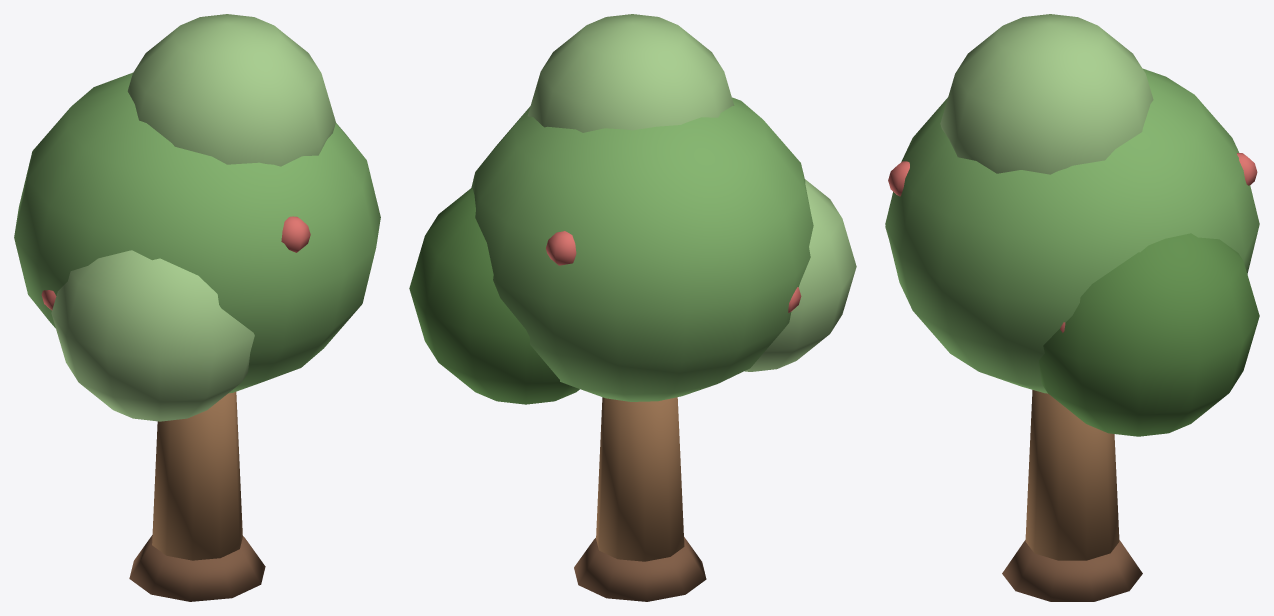
File: tree.glb
3 renders of one model, left to right at view 1: azimuth 30°, elevation 25°; view 2: azimuth 150°, elevation 25°; view 3: azimuth 270°, elevation 25°, orthographic. The views are drawn at different scales.
Visible parts, largest first — view 1: tree; view 2: tree; view 3: tree.
Boxes of the visible parts, left/top/right/bottom form: tree: left=14, top=14, right=380, bottom=601; tree: left=409, top=14, right=856, bottom=601; tree: left=885, top=14, right=1259, bottom=601.
Size of the model in its own units: 1.9 by 2.8 by 1.7.
